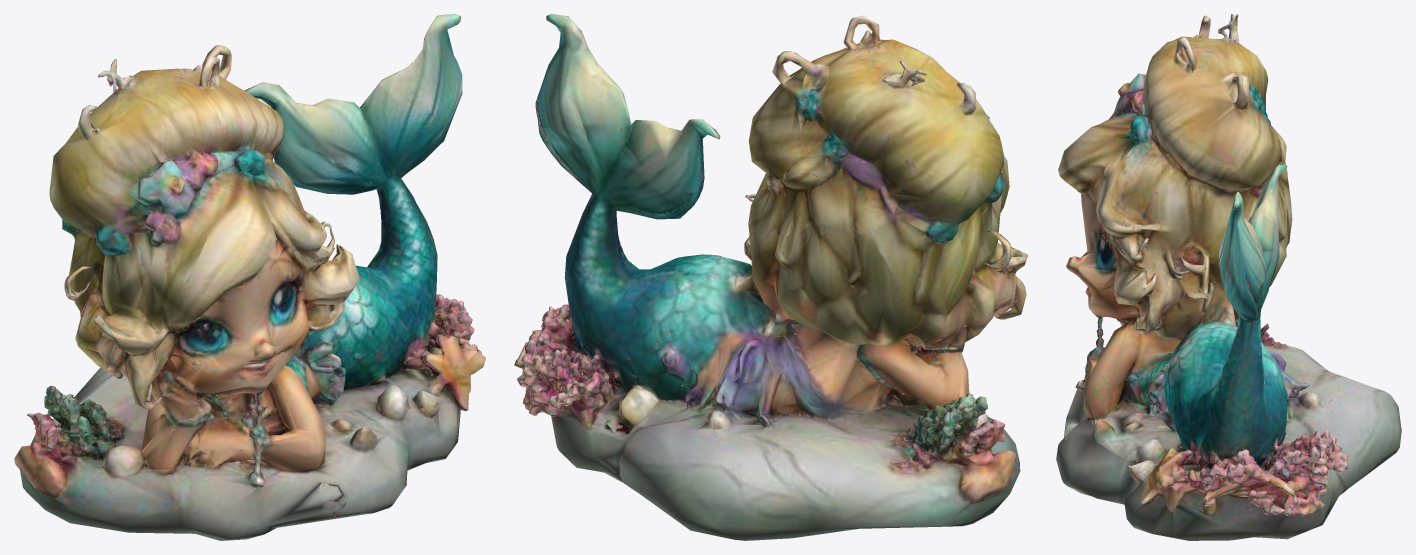
The picture shows the model from 3 angles, left to right: view 1: azimuth 30°, elevation 25°; view 2: azimuth 150°, elevation 25°; view 3: azimuth 270°, elevation 25°; orthographic projection. The views are drawn at different scales.
Size of the model in its own units: 1.97 by 1.89 by 1.46.
Materials: 1 (1 with a texture image).
